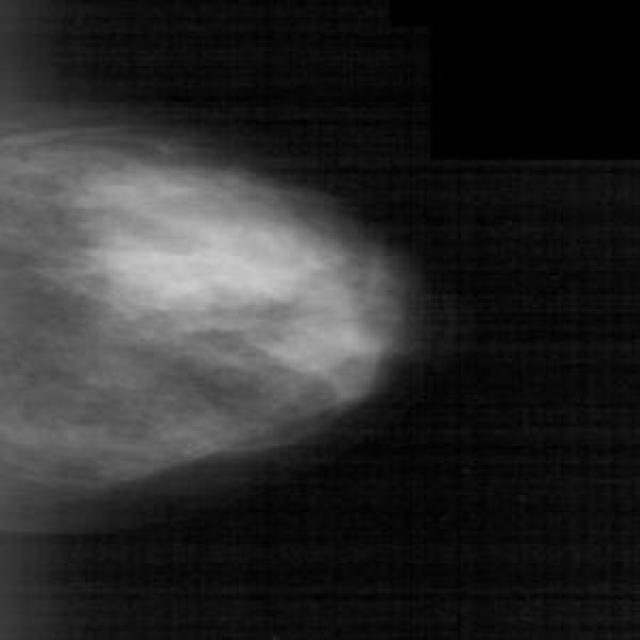tumor: (102, 210, 331, 330)
